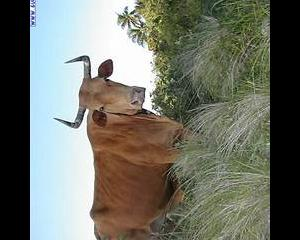cow: (52, 55, 200, 240)
